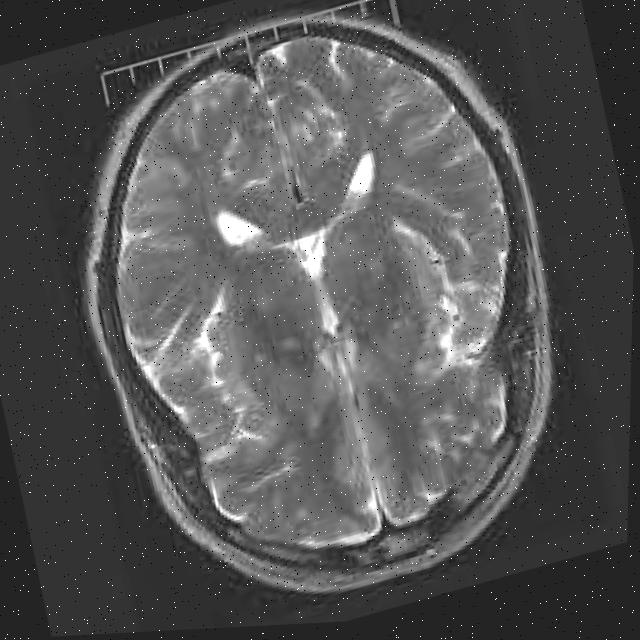NoTumor: (57, 0, 583, 609)
